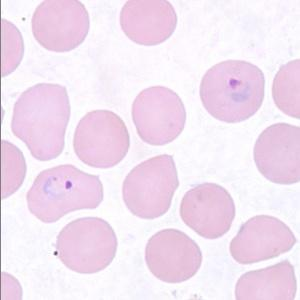Infected: (25, 164, 103, 222), (199, 58, 266, 125)
Uninfected: (10, 81, 70, 161), (122, 155, 180, 217), (58, 216, 117, 274), (72, 107, 129, 167), (232, 215, 298, 264), (180, 183, 235, 239), (30, 0, 89, 51), (133, 87, 185, 144), (253, 123, 300, 186), (145, 229, 200, 281), (118, 0, 176, 44), (234, 259, 296, 300)
